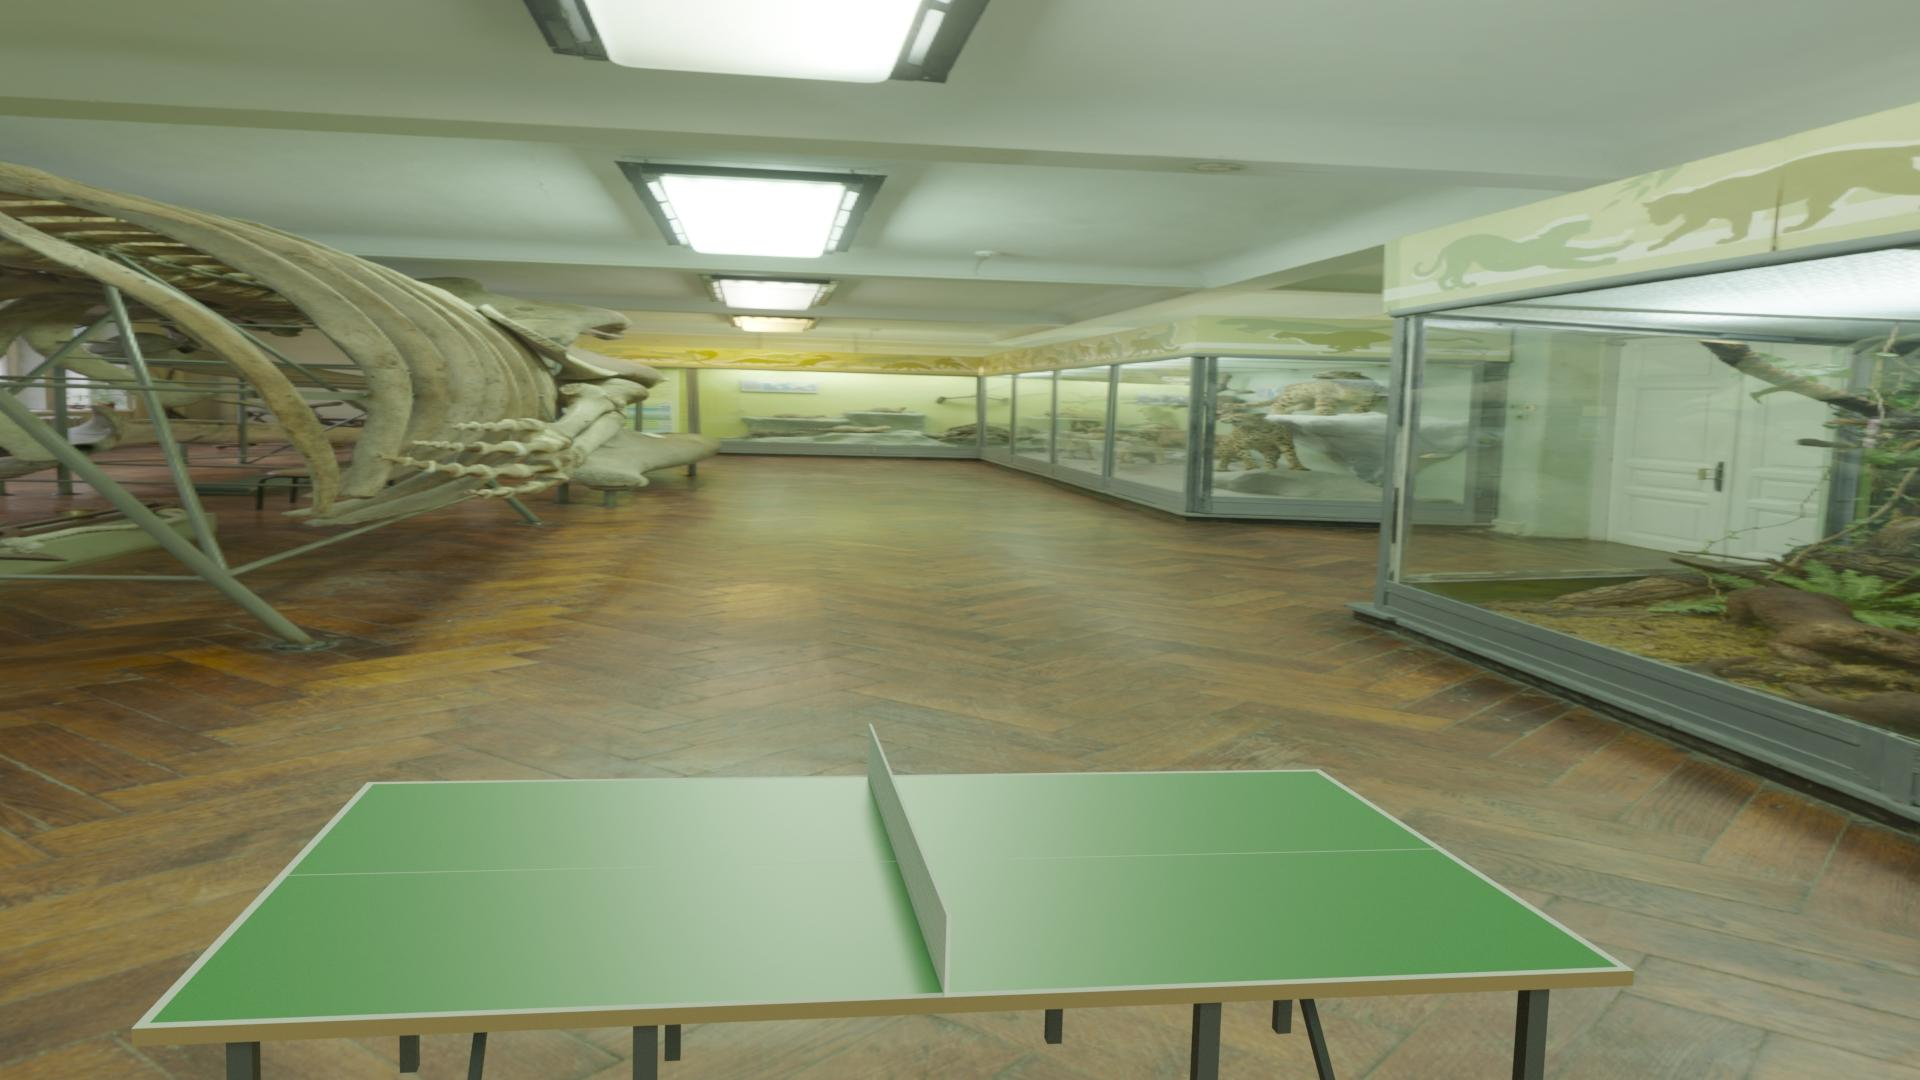table: (149, 771, 1618, 1023)
